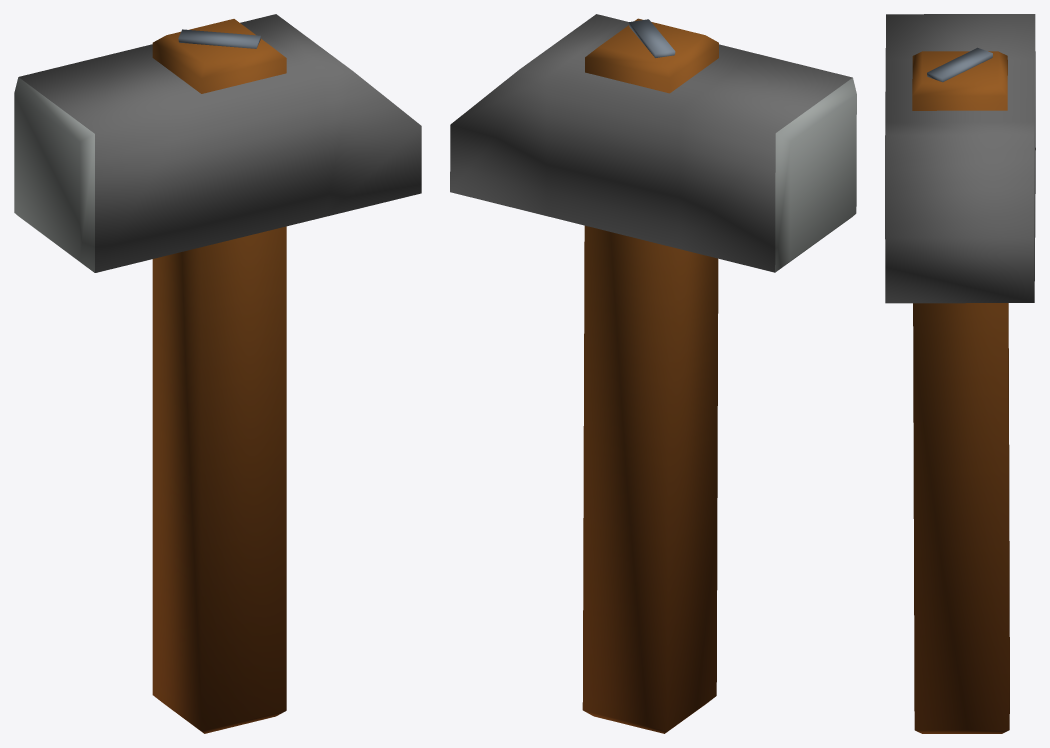
File: hammer.fbx
3 renders of one model, left to right at view 1: azimuth 30°, elevation 25°; view 2: azimuth 150°, elevation 25°; view 3: azimuth 270°, elevation 25°, orthographic. The views are drawn at different scales.
Visible parts, largest first — view 1: hammer; view 2: hammer; view 3: hammer.
Part boxes in pixels (bbox=[...]): hammer: bbox=[14, 14, 421, 733]; hammer: bbox=[450, 14, 856, 733]; hammer: bbox=[885, 14, 1035, 733].
Size of the model in its own units: 0.244 by 0.4675 by 0.0976.
